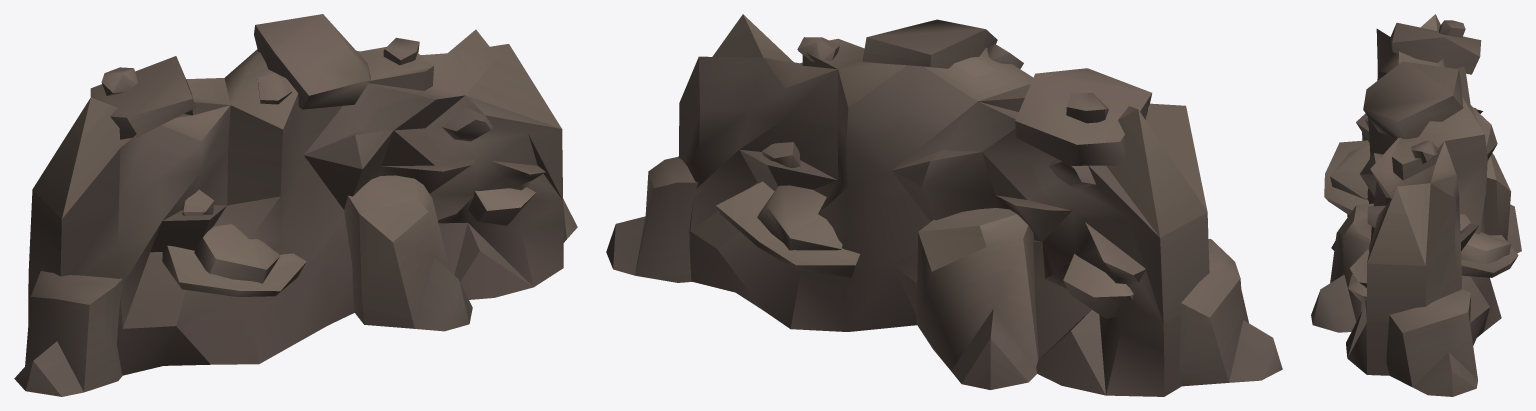
Rendered from rubble_large.glb.
The picture shows the model from 3 angles, left to right: view 1: azimuth 30°, elevation 25°; view 2: azimuth 150°, elevation 25°; view 3: azimuth 270°, elevation 25°; orthographic projection. The views are drawn at different scales.
Parts seen in each view (by area): view 1: rubble_large; view 2: rubble_large; view 3: rubble_large.
Part boxes in pixels (x1,y1,x2,y2): rubble_large: (14, 14, 577, 396); rubble_large: (606, 14, 1282, 396); rubble_large: (1311, 14, 1521, 396).
Bounding box in the file's own units: 8.13 × 3.5 × 3.18.
1 material, 1 textured.
